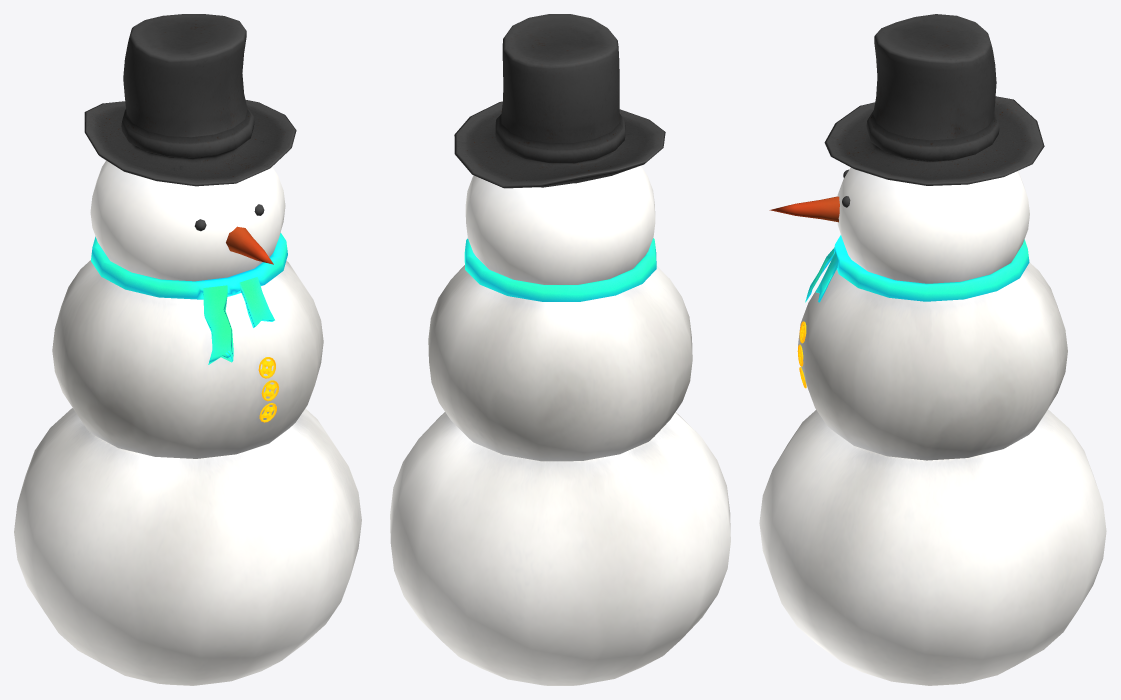
Rendered from PA_Snowmanset1_Snowman1_CROP.fbx.
The picture shows the model from 3 angles, left to right: view 1: azimuth 30°, elevation 25°; view 2: azimuth 150°, elevation 25°; view 3: azimuth 270°, elevation 25°; orthographic projection.
Visible parts, largest first — view 1: PA_Snowmanset1_Snowman1.002, PA_Snowmanset1_Snowman1.004, PA_Snowmanset1_Snowman1.001, PA_Snowmanset1_Snowman1.003; view 2: PA_Snowmanset1_Snowman1.002, PA_Snowmanset1_Snowman1.004, PA_Snowmanset1_Snowman1.001, PA_Snowmanset1_Snowman1.003; view 3: PA_Snowmanset1_Snowman1.002, PA_Snowmanset1_Snowman1.004, PA_Snowmanset1_Snowman1.001, PA_Snowmanset1_Snowman1.003.
Part boxes in pixels (<box>): PA_Snowmanset1_Snowman1.002: <box>14,408,361,685</box>; PA_Snowmanset1_Snowman1.004: <box>52,260,323,458</box>; PA_Snowmanset1_Snowman1.001: <box>84,14,296,186</box>; PA_Snowmanset1_Snowman1.003: <box>90,160,287,364</box>; PA_Snowmanset1_Snowman1.002: <box>390,412,730,685</box>; PA_Snowmanset1_Snowman1.004: <box>428,265,692,461</box>; PA_Snowmanset1_Snowman1.001: <box>454,14,665,188</box>; PA_Snowmanset1_Snowman1.003: <box>464,165,656,301</box>; PA_Snowmanset1_Snowman1.002: <box>759,409,1106,685</box>; PA_Snowmanset1_Snowman1.004: <box>797,262,1067,460</box>; PA_Snowmanset1_Snowman1.001: <box>824,14,1044,185</box>; PA_Snowmanset1_Snowman1.003: <box>769,167,1029,302</box>.
Bounding box in the file's own units: 107 × 216 × 107.
